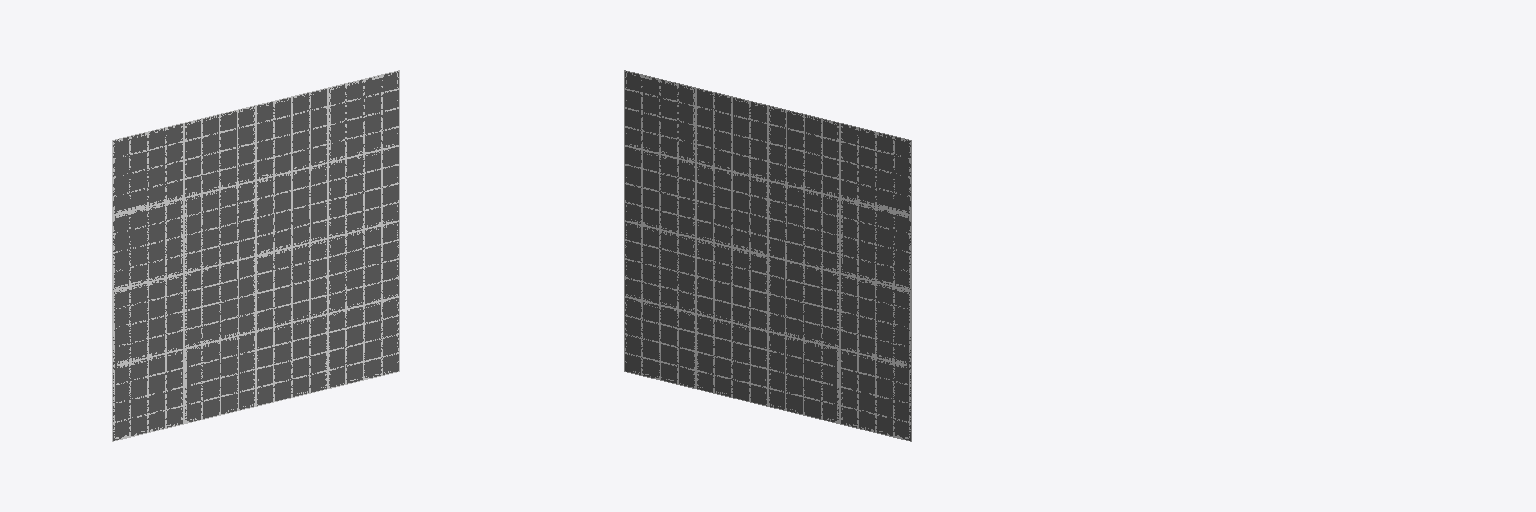
3 renders of one model, left to right at view 1: azimuth 30°, elevation 25°; view 2: azimuth 150°, elevation 25°; view 3: azimuth 270°, elevation 25°, orthographic.
Visible parts, largest first — view 1: Cube; view 2: Cube; view 3: none.
Part boxes in pixels (x1,y1,x2,y2): Cube: (112,70,399,441); Cube: (624,70,911,441).
Size of the model in its own units: 2 by 2 by 0.
Materials: 1 (1 with a texture image).